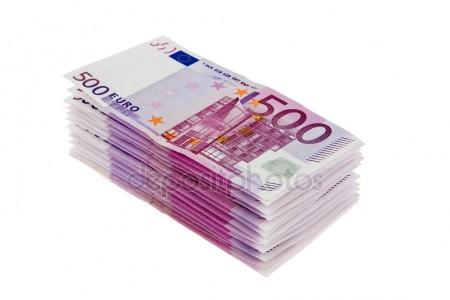billete: (61, 31, 367, 279)
